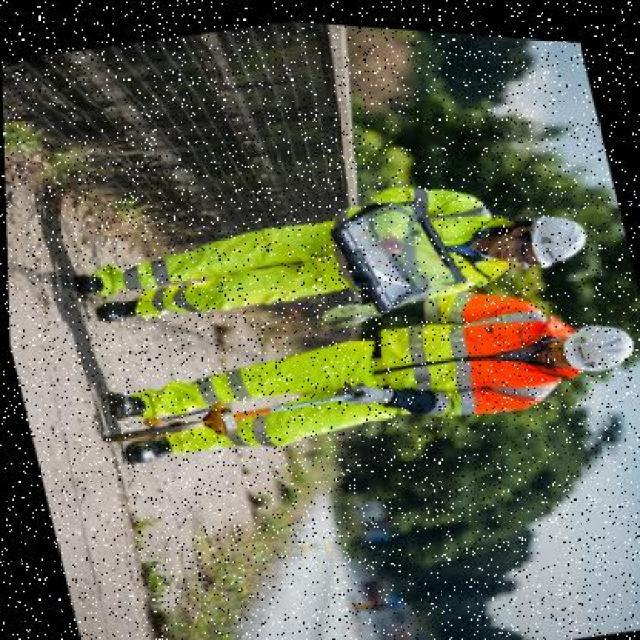helmet: (542, 291, 639, 391), (509, 186, 595, 270)
vest: (335, 271, 579, 437), (306, 155, 528, 319)
